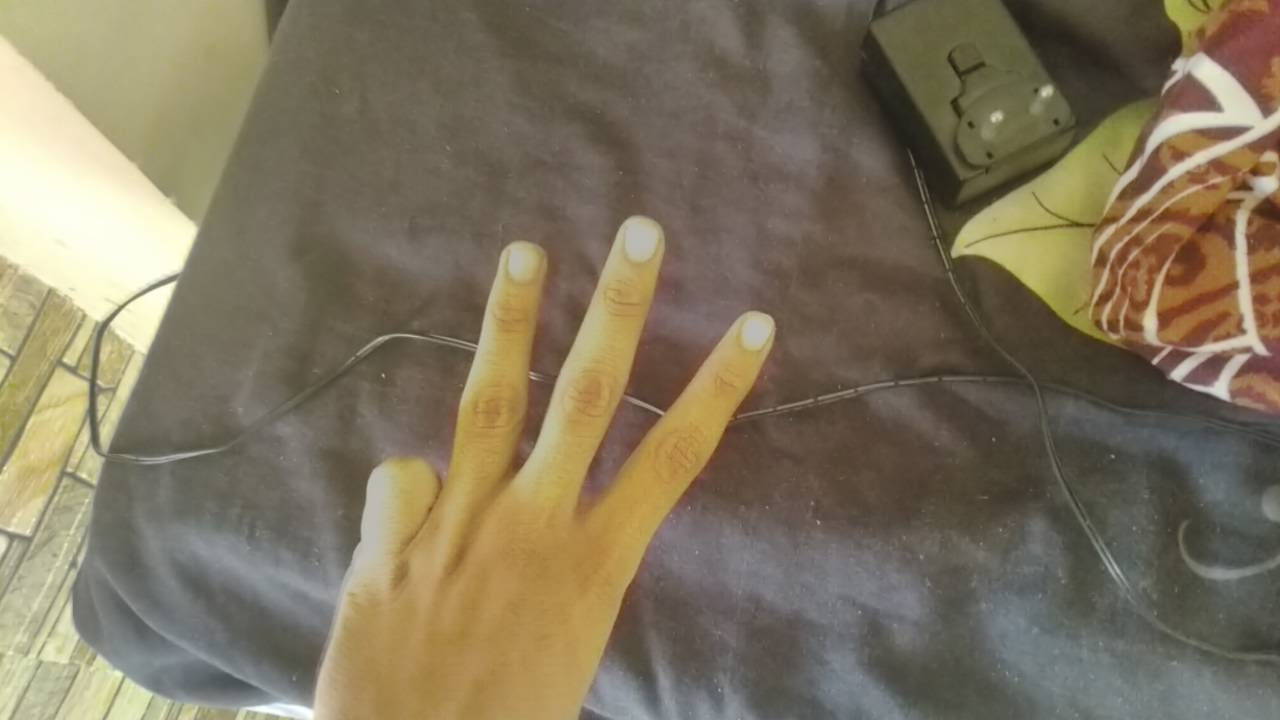fingertip: (604, 208, 672, 272), (488, 240, 548, 298), (724, 304, 782, 358)
